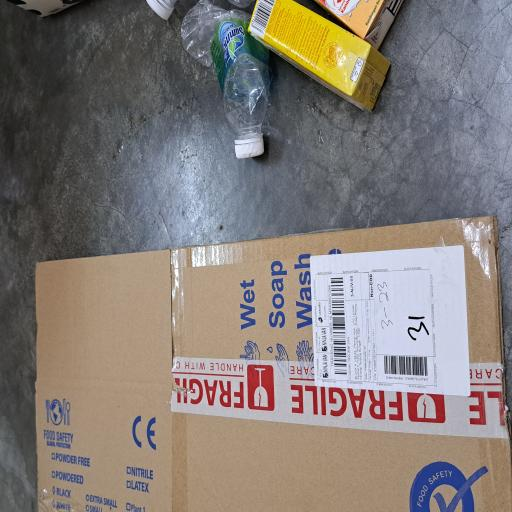cardboard: (0, 44, 222, 512)
drink carton: (299, 328, 384, 512), (346, 420, 384, 512)
plastic bottle: (278, 240, 384, 359)
plastic bottle cap: (263, 312, 281, 354), (368, 194, 384, 232)
